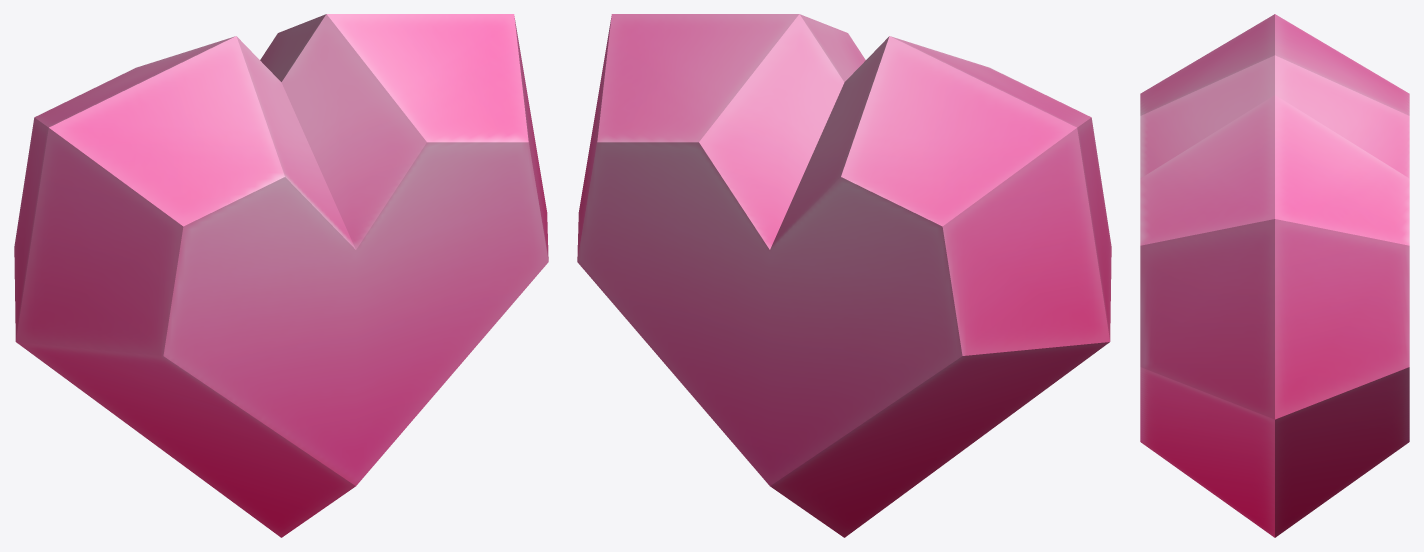
Rendered from Item_Heart.fbx.
3 views of the same model, side by side, from view 1: azimuth 30°, elevation 25°; view 2: azimuth 150°, elevation 25°; view 3: azimuth 270°, elevation 25° (orthographic). The views are drawn at different scales.
Parts seen in each view (by area): view 1: Mesh; view 2: Mesh; view 3: Mesh.
Boxes of the visible parts, x1,y1,x2,y2 form: Mesh: (14,14,548,537); Mesh: (577,14,1111,537); Mesh: (1140,14,1409,537).
Bounding box in the file's own units: 38.68 × 35.68 × 18.8.
